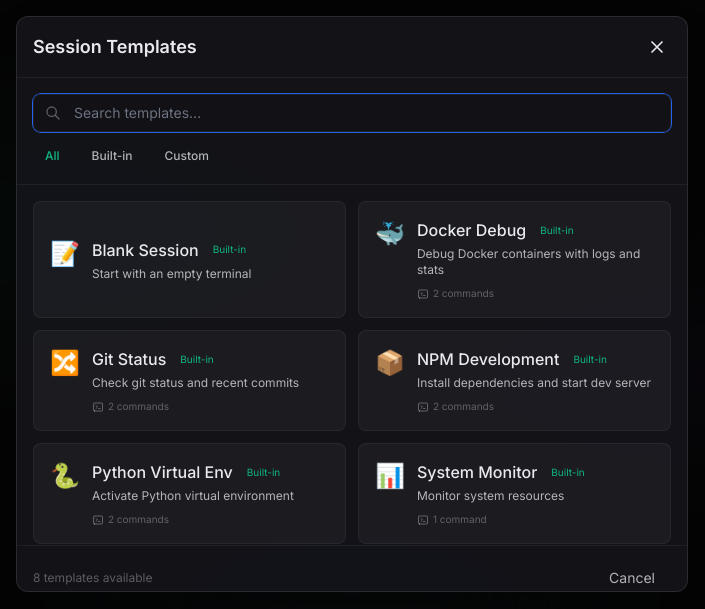
Test case: SessionTemplateModal › should filter by category when category tab is clicked
Click "Custom" tab
Click the button "Custom". click: (187, 156)
box: [152,144,221,168]
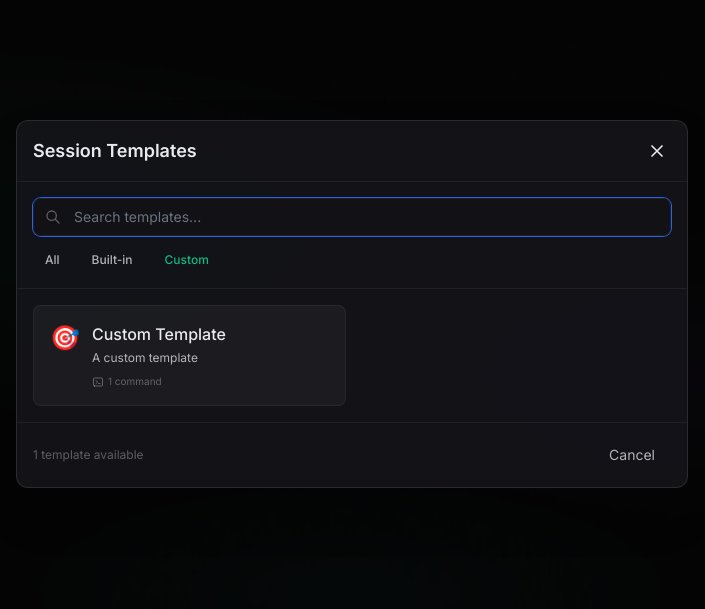
Expected: the text "Custom Template" is shown, [92,322,226,346]
Expected: the button "Docker Debug" is gone
